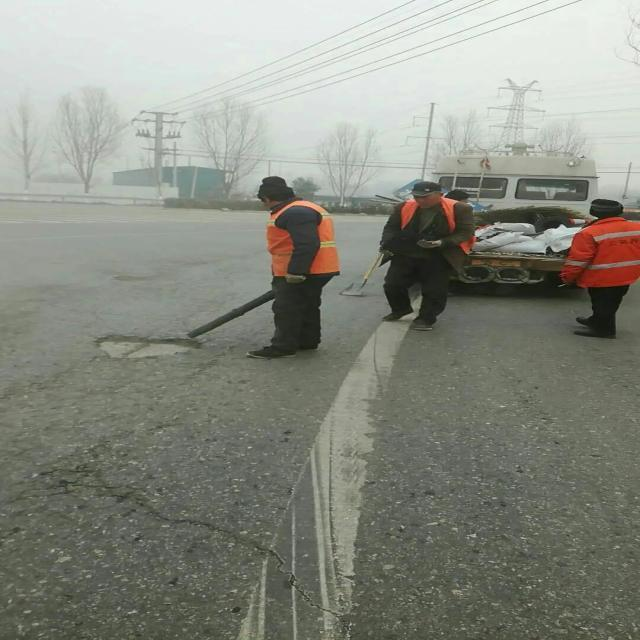Buraco: (92, 332, 208, 362)
